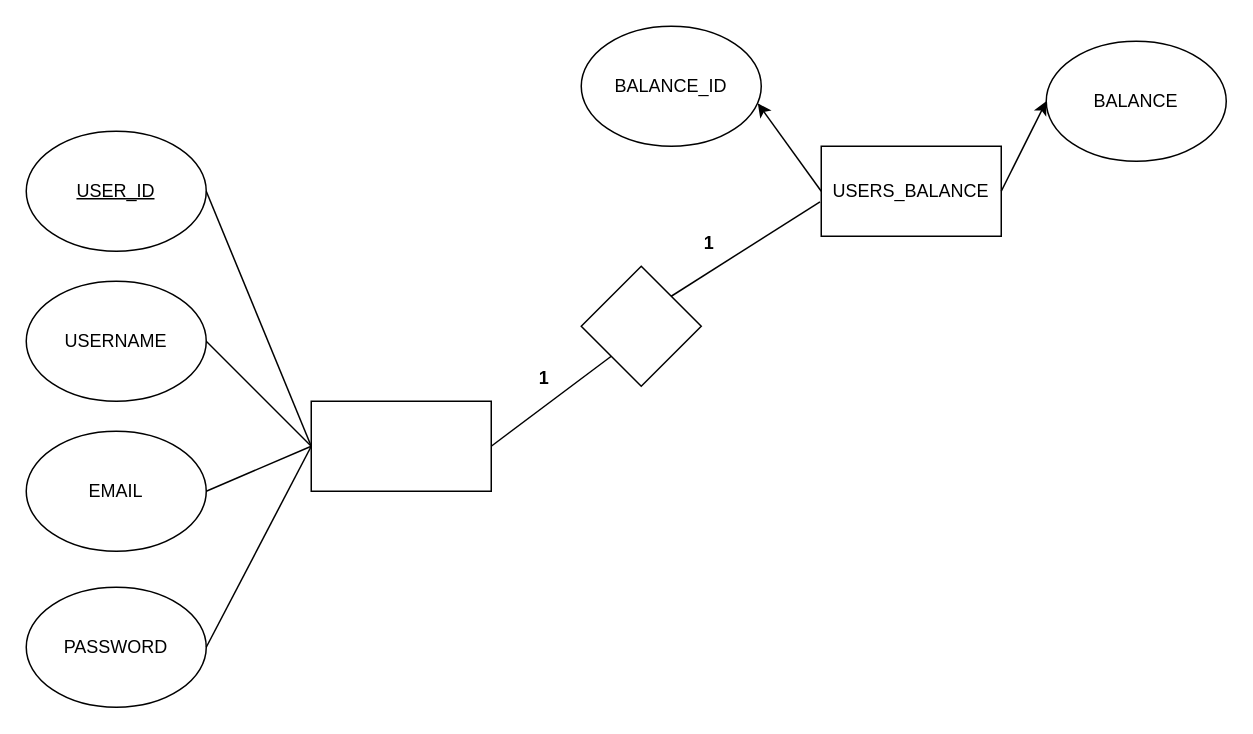
This 1253x734 diagram has some shape labels left out. Each missing label, with the centre of its shape:
HAS: the point at 640,325
USERS: the point at 400,445
